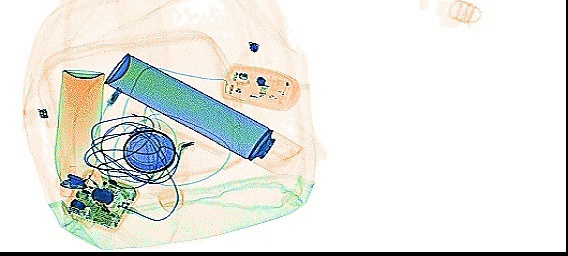pressure: (102, 52, 302, 173), (51, 68, 103, 196)
